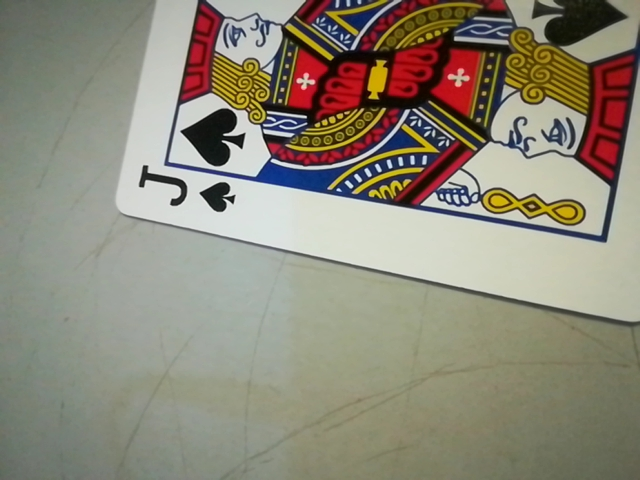ht j: (123, 152, 247, 225)
